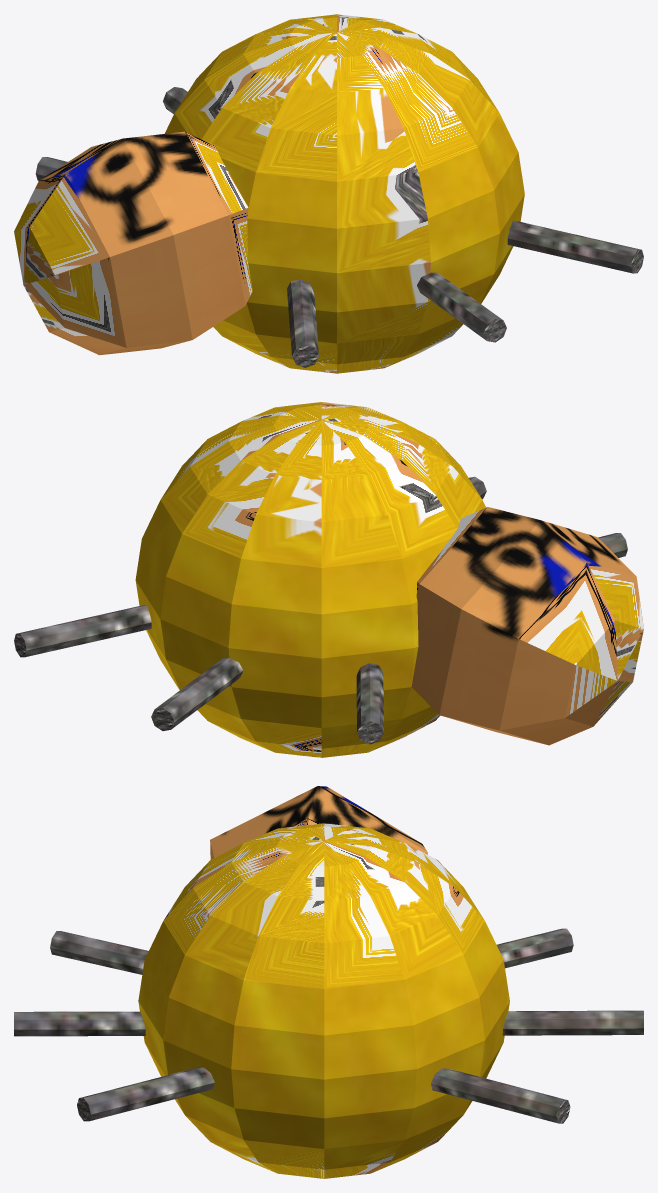
Rendered from BugAnimated.fbx.
The picture shows the model from 3 angles, top to bottom: view 1: azimuth 30°, elevation 25°; view 2: azimuth 150°, elevation 25°; view 3: azimuth 270°, elevation 25°; orthographic projection.
Visible parts, largest first — view 1: body, head, arm6, arm5, arm4; view 2: body, head, arm3, arm2, arm1; view 3: body, head, arm3, arm2, arm6, arm5, arm4, arm1.
Boxes of the visible parts, x1=… form: body: x1=164, y1=14, x2=524, y2=373; head: x1=14, y1=131, x2=252, y2=355; arm6: x1=507, y1=220, x2=643, y2=273; arm5: x1=417, y1=272, x2=506, y2=342; arm4: x1=287, y1=279, x2=318, y2=367; body: x1=135, y1=402, x2=485, y2=757; head: x1=411, y1=507, x2=643, y2=745; arm3: x1=14, y1=605, x2=151, y2=657; arm2: x1=151, y1=658, x2=243, y2=730; arm1: x1=356, y1=663, x2=383, y2=744; body: x1=138, y1=823, x2=509, y2=1178; head: x1=210, y1=786, x2=427, y2=859; arm3: x1=431, y1=1068, x2=570, y2=1123; arm2: x1=502, y1=1010, x2=643, y2=1035; arm6: x1=77, y1=1067, x2=214, y2=1121; arm5: x1=14, y1=1011, x2=145, y2=1036; arm4: x1=50, y1=931, x2=148, y2=974; arm1: x1=497, y1=928, x2=573, y2=968.
Bounding box in the file's own units: 3.16 × 1.96 × 3.49.
